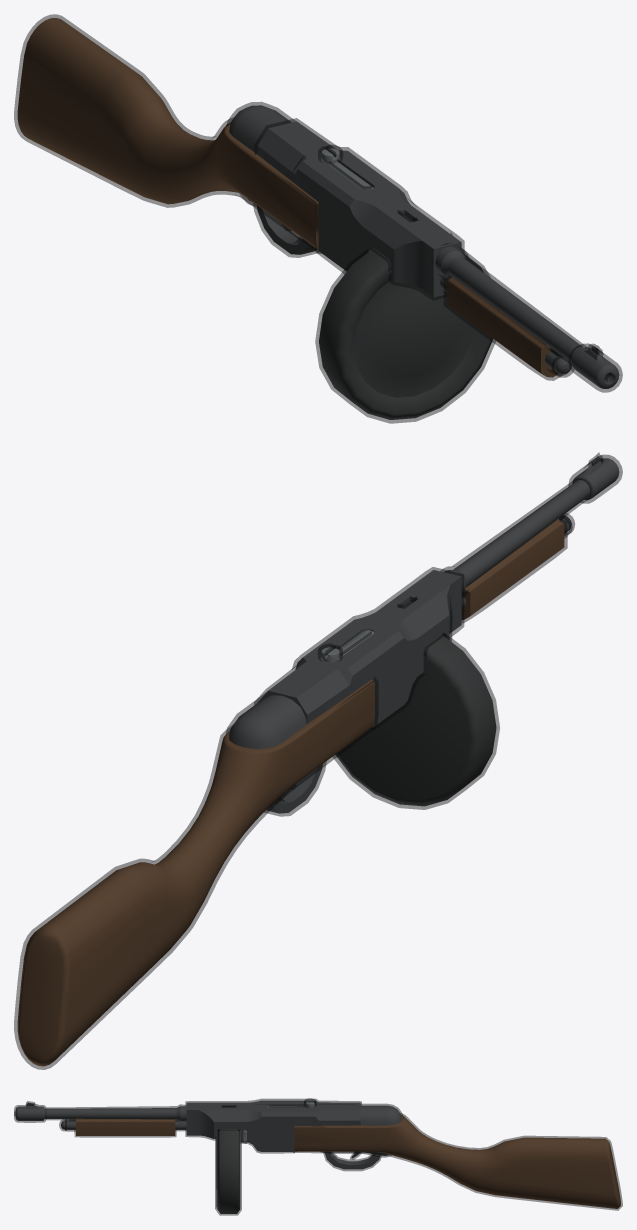
File: tommy toon final.fbx
3 views of the same model, one above another, from view 1: azimuth 30°, elevation 25°; view 2: azimuth 150°, elevation 25°; view 3: azimuth 270°, elevation 25° (orthographic). The views are drawn at different scales.
Visible parts, largest first — view 1: PPSTOM4; view 2: PPSTOM4; view 3: PPSTOM4.
Boxes of the visible parts, x1,y1,x2,y2 form: PPSTOM4: (14,14,622,423); PPSTOM4: (14,453,622,1069); PPSTOM4: (14,1098,622,1215).
Size of the model in its own units: 192 by 229 by 1142.
